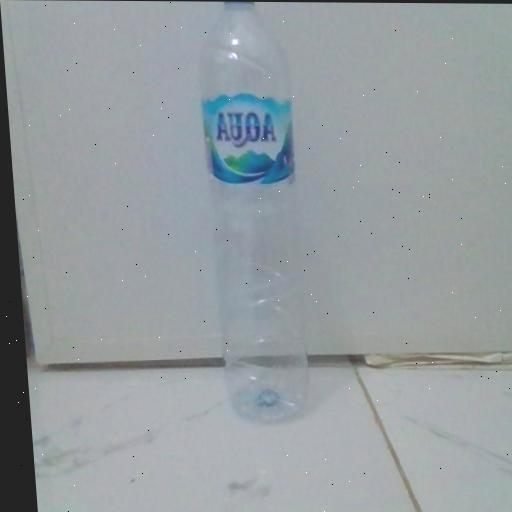bottle: (168, 1, 337, 435)
